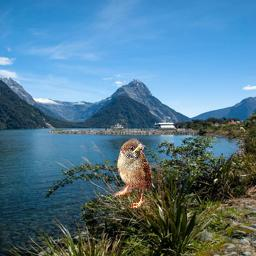Sparrow: (114, 138, 163, 208)
